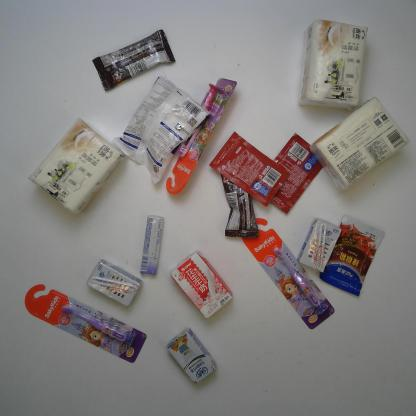Candy: (140, 215, 164, 276)
Chocolate: (92, 29, 176, 92), (221, 167, 260, 238)
Milk: (170, 250, 234, 318), (166, 327, 217, 383), (86, 259, 144, 307), (297, 217, 342, 273)
Personal Hygiene: (240, 217, 335, 331), (24, 284, 147, 364), (166, 78, 238, 196)
Seasoner: (111, 70, 211, 186), (208, 130, 290, 207), (319, 212, 385, 298), (263, 132, 324, 216)
Tissue: (27, 116, 126, 216), (309, 96, 410, 192), (298, 17, 368, 111)
